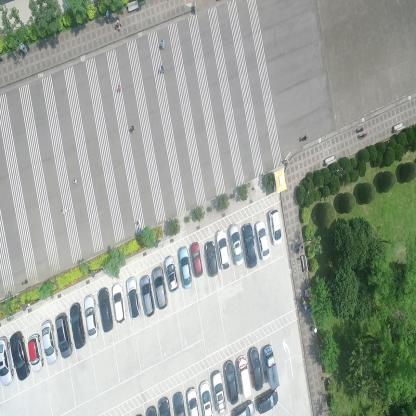car: (8, 331, 31, 382), (53, 313, 74, 360), (68, 302, 86, 350), (241, 220, 258, 268), (96, 285, 113, 333), (263, 344, 280, 392), (84, 292, 100, 341), (0, 334, 15, 386), (40, 321, 58, 364), (140, 272, 156, 318), (248, 346, 264, 391), (254, 218, 271, 260), (228, 222, 244, 266), (152, 264, 168, 308), (236, 354, 252, 398), (215, 226, 230, 272), (177, 244, 192, 290), (224, 358, 239, 404), (26, 333, 44, 371), (125, 275, 140, 320), (211, 369, 226, 414), (111, 281, 126, 325), (198, 378, 214, 416), (164, 254, 179, 293), (257, 387, 279, 413), (268, 207, 283, 245), (204, 238, 218, 276), (190, 240, 203, 279), (186, 384, 200, 416), (232, 398, 255, 416), (173, 389, 186, 415)
